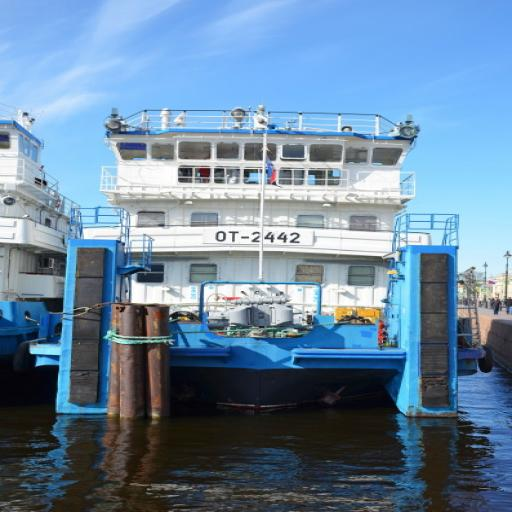tugboat: (54, 100, 472, 430)
